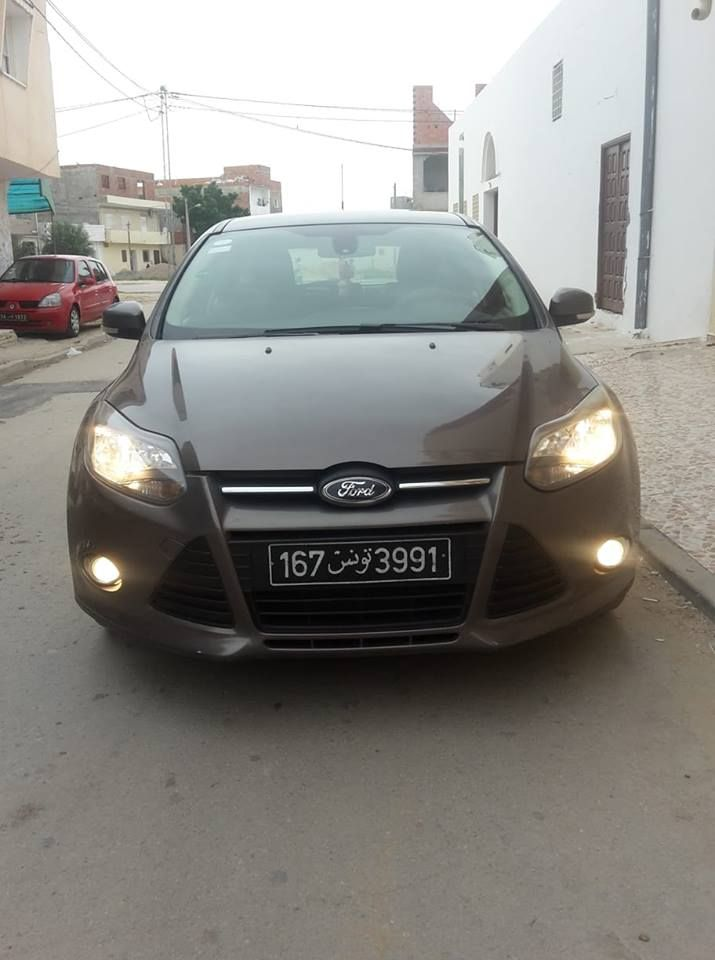LP: (269, 537, 452, 588)
